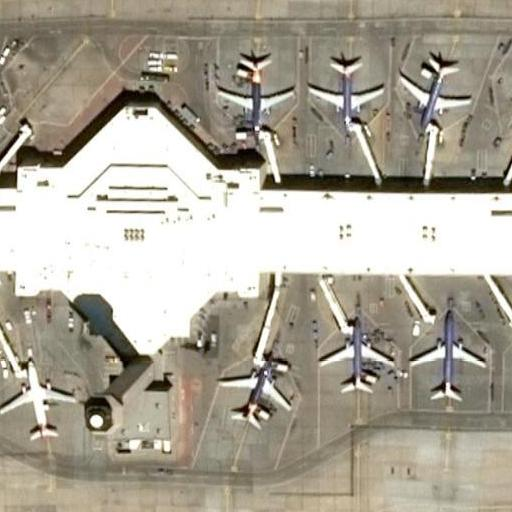Aircraft: (394, 43, 478, 137), (215, 45, 298, 137), (305, 51, 392, 138), (309, 311, 391, 399), (407, 308, 486, 399), (210, 350, 298, 430), (0, 355, 78, 445)
